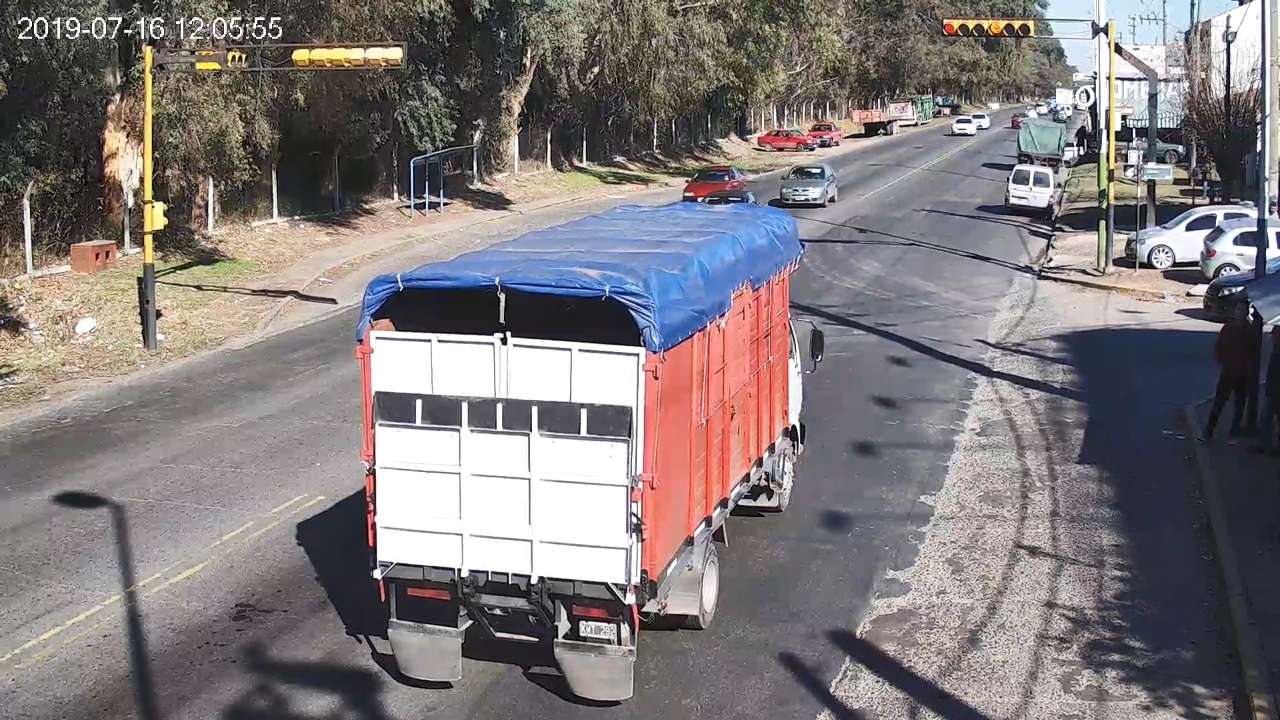traffic light: (943, 16, 1034, 37)
truck: (357, 205, 825, 701)
